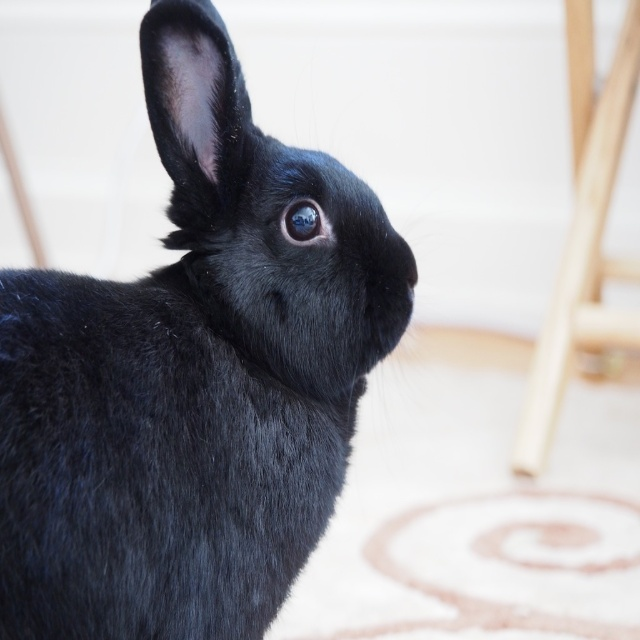Rabbit: (0, 0, 418, 639)
